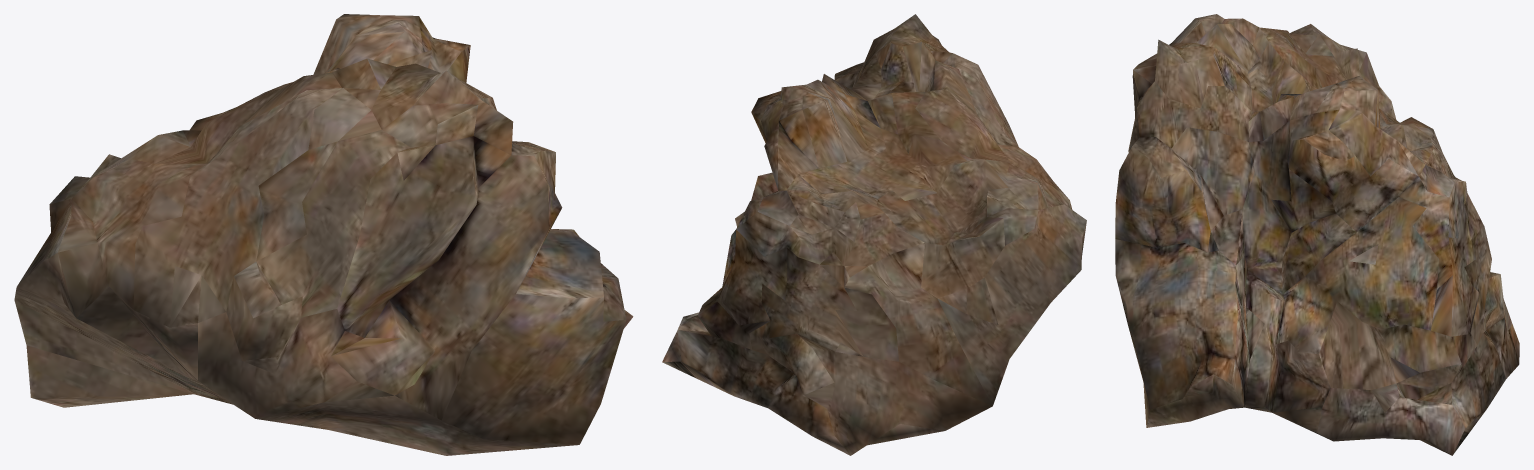
File: library-boulder-v2.glb
The picture shows the model from 3 angles, left to right: view 1: azimuth 30°, elevation 25°; view 2: azimuth 150°, elevation 25°; view 3: azimuth 270°, elevation 25°; orthographic projection. The views are drawn at different scales.
Visible parts, largest first — view 1: rock; view 2: rock; view 3: rock.
Part boxes in pixels (x1,y1,x2,y2): rock: (14, 14, 633, 455); rock: (662, 14, 1086, 455); rock: (1115, 14, 1519, 455).
Size of the model in its own units: 0.6749 by 0.523 by 0.5184.
Materials: 1 (1 with a texture image).
